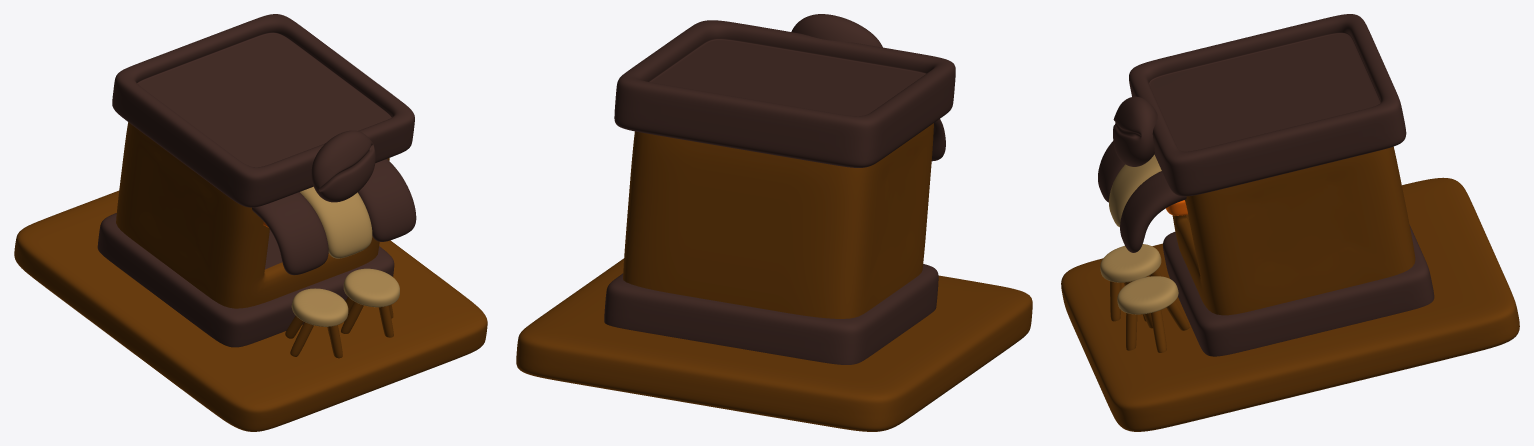
Rendered from coffee-shop.glb.
3 renders of one model, left to right at view 1: azimuth 30°, elevation 25°; view 2: azimuth 150°, elevation 25°; view 3: azimuth 270°, elevation 25°, orthographic. The views are drawn at different scales.
Visible parts, largest first — view 1: Cube.005, Cube.011, Cube, Cube.012, Plane.002, Cylinder, Cube.004, Plane, Plane.001, Cylinder.022; view 2: Cube, Cube.005, Cube.011, Cube.012, Cube.004; view 3: Cube.005, Cube.011, Cube, Cube.012, Cylinder, Cube.004, Plane, Cylinder.022, Plane.001, Plane.002.
Part boxes in pixels (<box>): Cube.005: <box>14,190,487,431</box>; Cube.011: <box>112,14,414,207</box>; Cube: <box>116,122,389,308</box>; Cube.012: <box>97,213,394,347</box>; Plane.002: <box>252,192,328,275</box>; Cylinder: <box>291,268,399,326</box>; Cube.004: <box>311,130,375,202</box>; Plane: <box>357,159,416,241</box>; Plane.001: <box>300,186,372,258</box>; Cylinder.022: <box>285,297,393,358</box>; Cube: <box>623,123,933,318</box>; Cube.005: <box>516,258,1032,431</box>; Cube.011: <box>614,20,955,167</box>; Cube.012: <box>604,264,938,364</box>; Cube.004: <box>791,14,882,47</box>; Cube.005: <box>1061,177,1519,431</box>; Cube.011: <box>1129,14,1406,196</box>; Cube: <box>1172,146,1415,315</box>; Cube.012: <box>1163,225,1434,356</box>; Cylinder: <box>1100,244,1178,314</box>; Cube.004: <box>1113,96,1157,166</box>; Plane: <box>1120,171,1186,252</box>; Cylinder.022: <box>1110,269,1189,352</box>; Plane.001: <box>1109,154,1161,227</box>; Plane.002: <box>1098,141,1125,202</box>.
Size of the model in its own units: 2.51 by 1.96 by 2.8.
